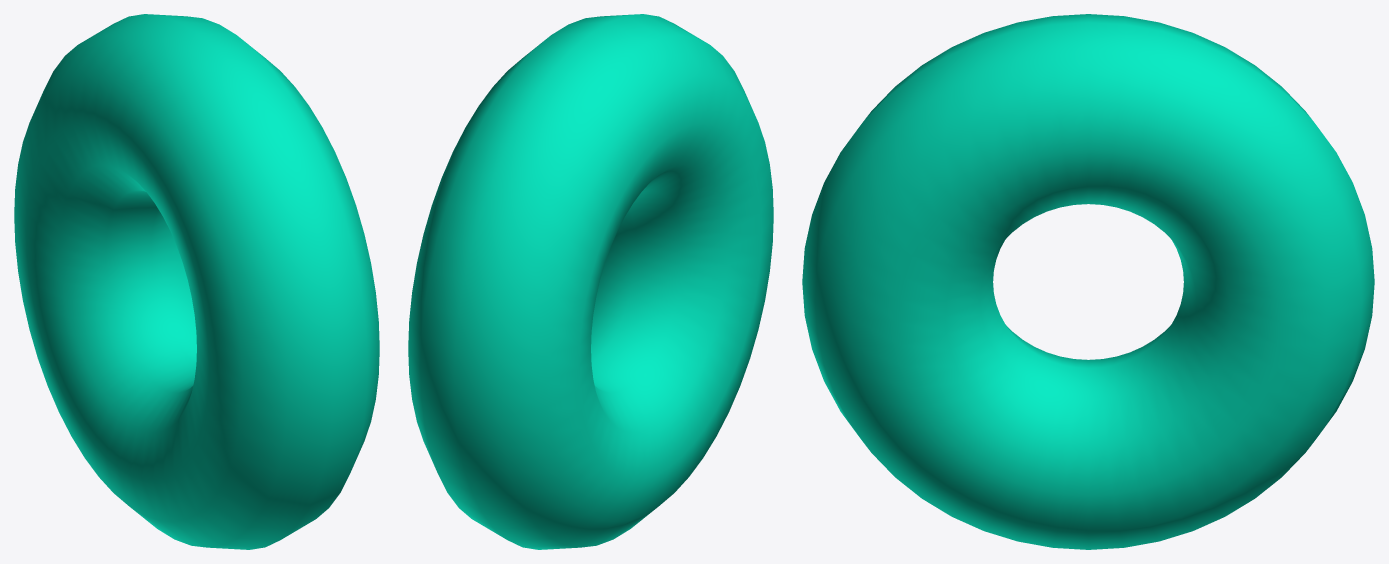
File: torrus.glb
The picture shows the model from 3 angles, left to right: view 1: azimuth 30°, elevation 25°; view 2: azimuth 150°, elevation 25°; view 3: azimuth 270°, elevation 25°; orthographic projection. The views are drawn at different scales.
Visible parts, largest first — view 1: Torus; view 2: Torus; view 3: Torus.
Part boxes in pixels (x1,y1,x2,y2): Torus: (14,14,379,549); Torus: (408,14,773,549); Torus: (802,14,1374,549).
Bounding box in the file's own units: 1.25 × 3.75 × 3.75.
